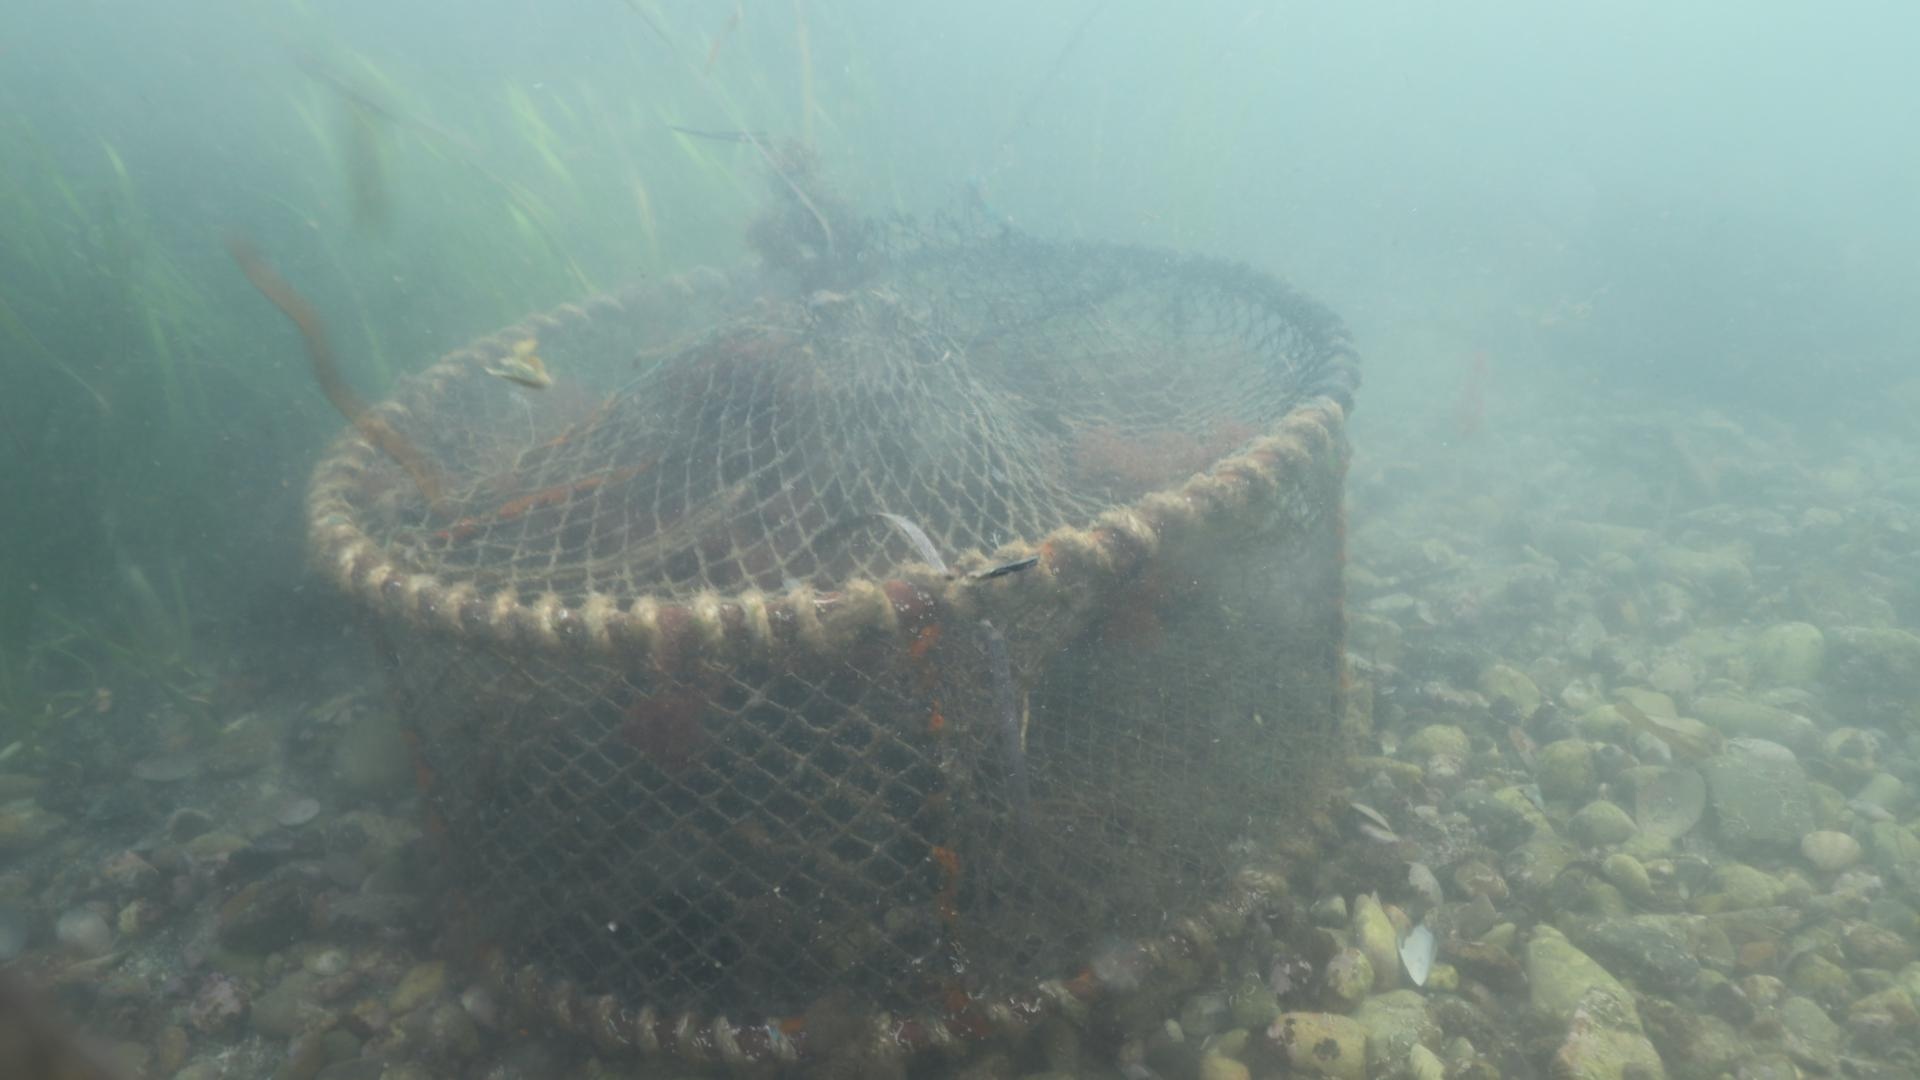circular fish trap: (309, 140, 1358, 1065)
